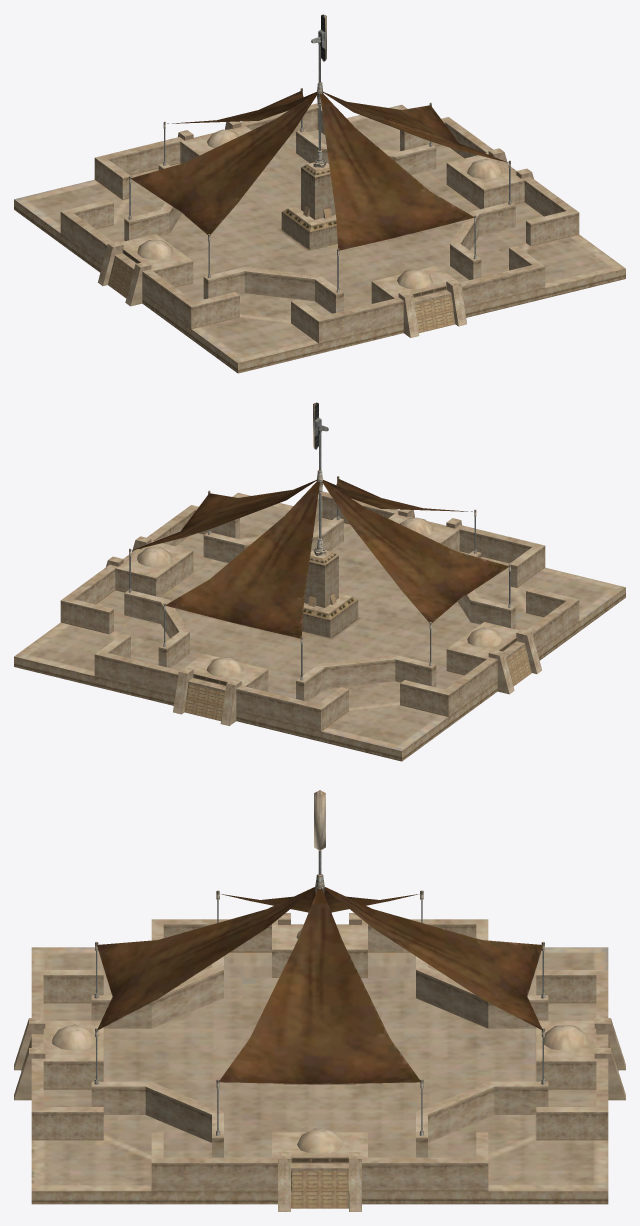
Rendered from mun_tato_bank_s01_l2.fbx.
3 views of the same model, one above another, from view 1: azimuth 30°, elevation 25°; view 2: azimuth 150°, elevation 25°; view 3: azimuth 270°, elevation 25° (orthographic). The views are drawn at different scales.
Parts seen in each view (by area): view 1: mesh_node; view 2: mesh_node; view 3: mesh_node.
Boxes of the visible parts, x1,y1,x2,y2 form: mesh_node: [14, 14, 625, 373]; mesh_node: [14, 402, 625, 761]; mesh_node: [14, 790, 625, 1211].
Size of the model in its own units: 63.68 by 33.84 by 63.68.
